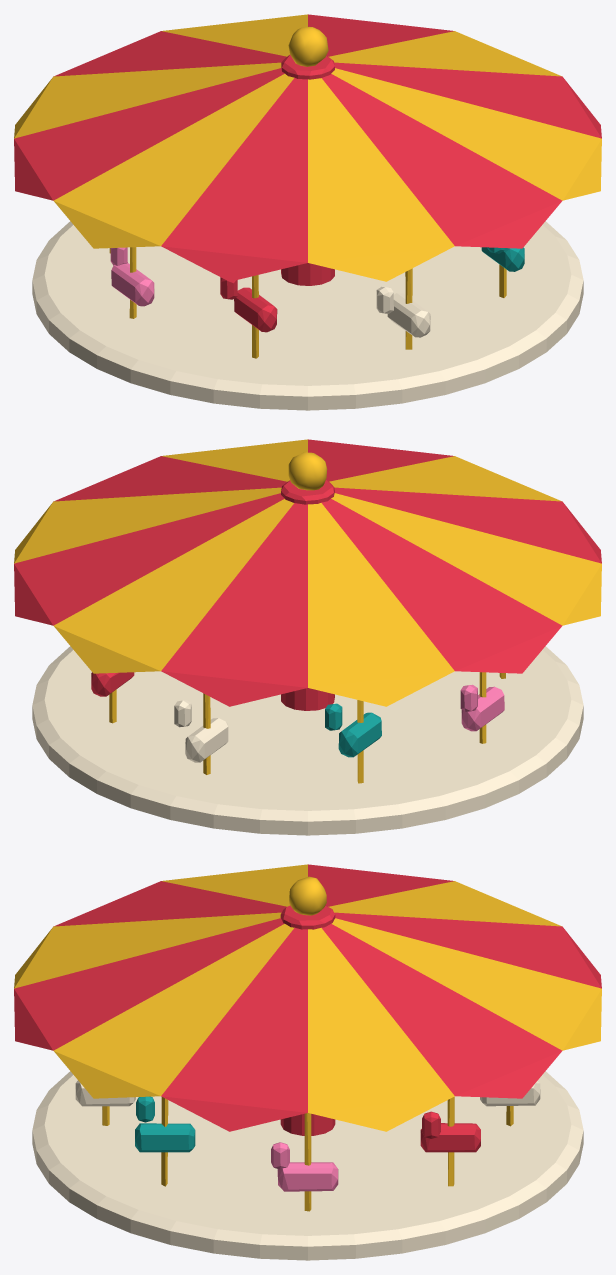
Rendered from carousel.glb.
The picture shows the model from 3 angles, top to bottom: view 1: azimuth 30°, elevation 25°; view 2: azimuth 150°, elevation 25°; view 3: azimuth 270°, elevation 25°; orthographic projection.
Parts seen in each view (by area): view 1: carousel; view 2: carousel; view 3: carousel.
Part boxes in pixels (x1=…): carousel: x1=14, y1=14, x2=601, y2=410; carousel: x1=14, y1=439, x2=601, y2=835; carousel: x1=14, y1=864, x2=601, y2=1260.
Bounding box in the file's own units: 19.2 × 9.55 × 19.2.
